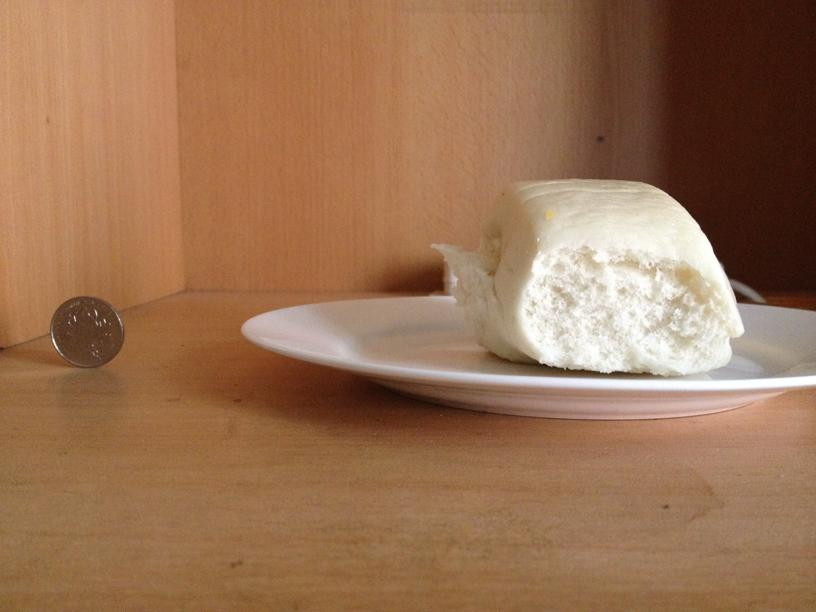bun: (447, 176, 734, 373)
coin: (45, 290, 112, 351)
